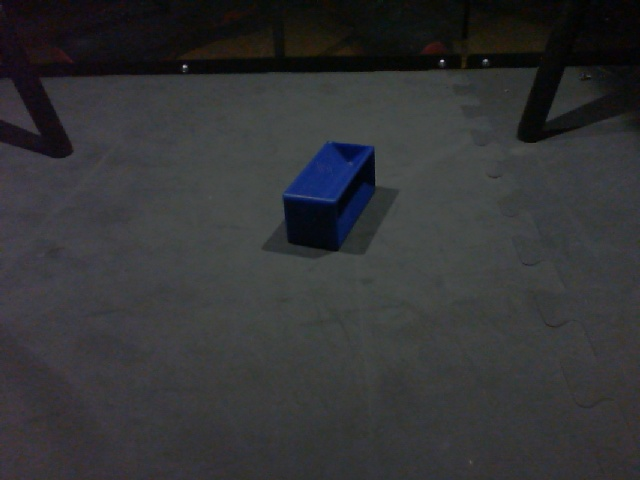BlueSample: (280, 139, 378, 254)
